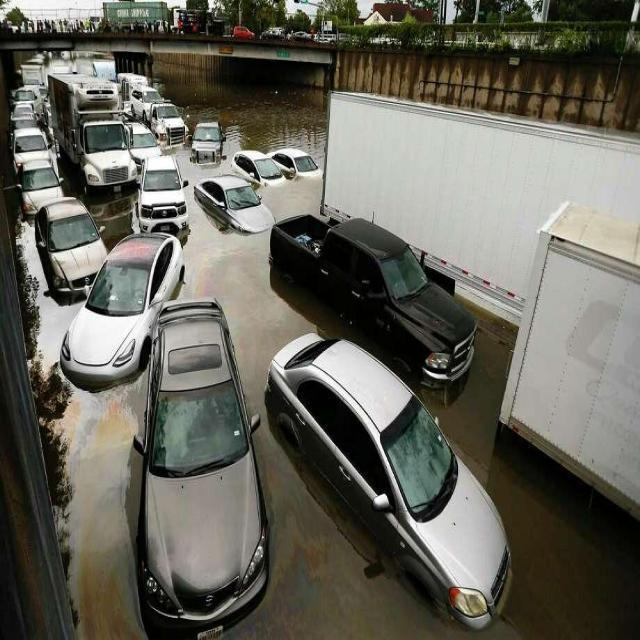water: (156, 139, 470, 638), (421, 290, 638, 637), (19, 204, 166, 638), (124, 63, 329, 168), (85, 193, 139, 255), (259, 174, 322, 224)
